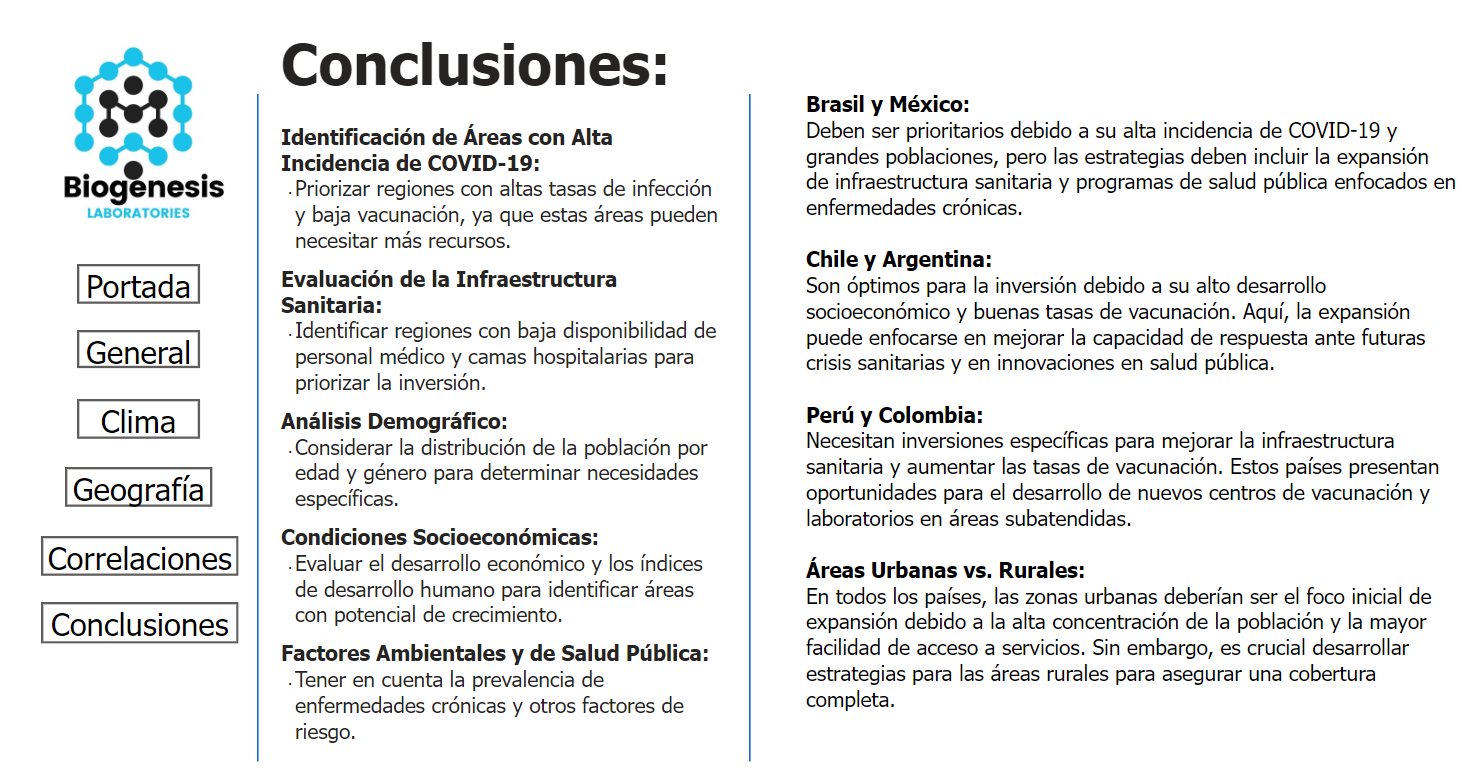

The dashboard page shown, as its layout file describes it:
{"tool":"powerbi","page":{"name":"Conclusiones","canvas":[1920,1080],"ordinal":5},"visuals":[{"type":"image","box":[40,33.3,304.4,306.7],"z":0},{"type":"textbox","box":[368.9,33.3,526.7,104.4],"z":1000},{"type":"textbox","box":[368.9,155.6,573.3,924.4],"z":2000},{"type":"actionButton","box":[113.3,340,157.8,51.1],"z":3000},{"type":"actionButton","box":[113.3,424.4,157.8,48.9],"z":4000},{"type":"actionButton","box":[113.3,513.3,157.8,51.1],"z":5000},{"type":"actionButton","box":[97.8,600,188.9,51.1],"z":6000},{"type":"actionButton","box":[66.7,688.9,253.3,51.1],"z":7000},{"type":"actionButton","box":[66.7,773.3,253.3,53.3],"z":8000},{"type":"textbox","box":[1042.2,95.6,844.4,937.8],"z":9000},{"type":"shape","box":[848.9,122.2,253.3,855.6],"z":10000},{"type":"shape","box":[217.8,122.2,253.3,855.6],"z":11000}]}

Visuals, with their boxes on the page's 1920x1080 design canvas (x1, y1, x2, y2). These are canvas units, not pixel positions in the 1462x784 screenshot, which may show the page scaled, cropped or inside an application window:
image: left=40, top=33, right=344, bottom=340
textbox: left=369, top=33, right=896, bottom=138
textbox: left=369, top=156, right=942, bottom=1080
actionButton: left=113, top=340, right=271, bottom=391
actionButton: left=113, top=424, right=271, bottom=473
actionButton: left=113, top=513, right=271, bottom=564
actionButton: left=98, top=600, right=287, bottom=651
actionButton: left=67, top=689, right=320, bottom=740
actionButton: left=67, top=773, right=320, bottom=827
textbox: left=1042, top=96, right=1887, bottom=1033
shape: left=849, top=122, right=1102, bottom=978
shape: left=218, top=122, right=471, bottom=978
